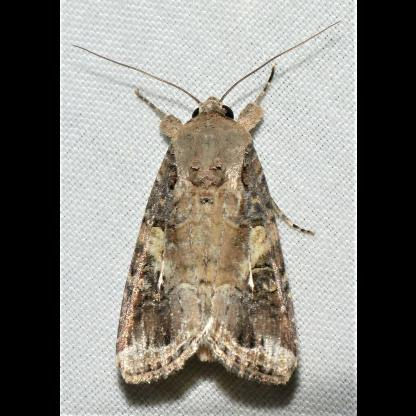Fall Armyworm Moth: (70, 18, 344, 392)
